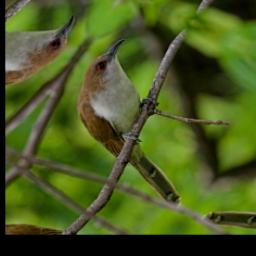Cuckoo: (35, 33, 256, 207)
